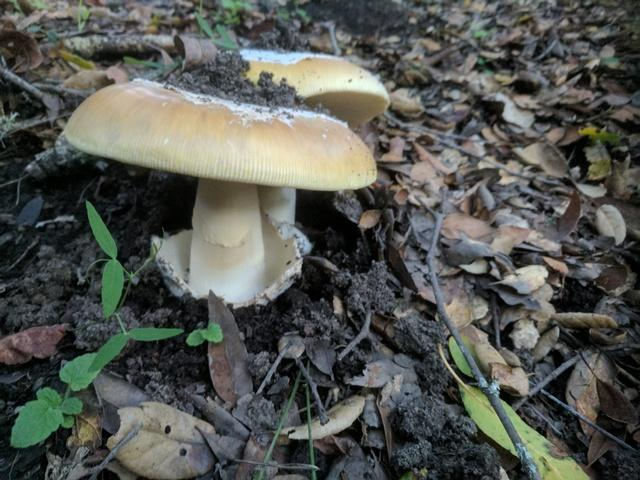Edible Mushroom: (61, 77, 377, 308)
